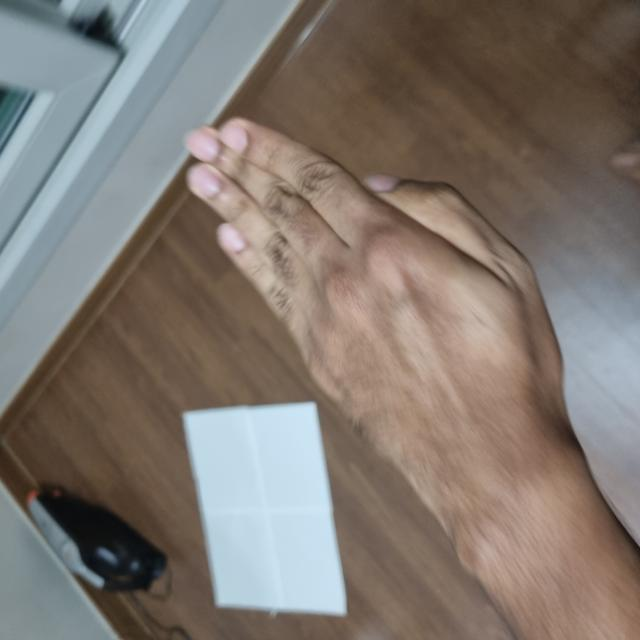Paper: (150, 183, 521, 548)
